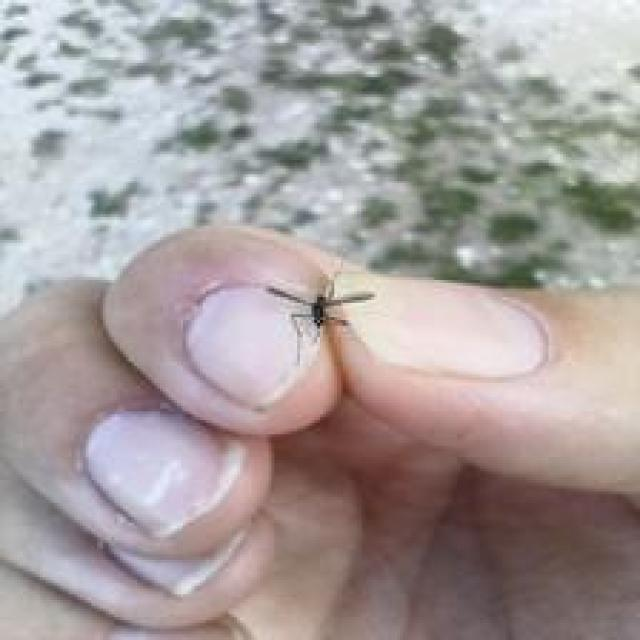Aedes albopictus: (264, 266, 376, 366)
